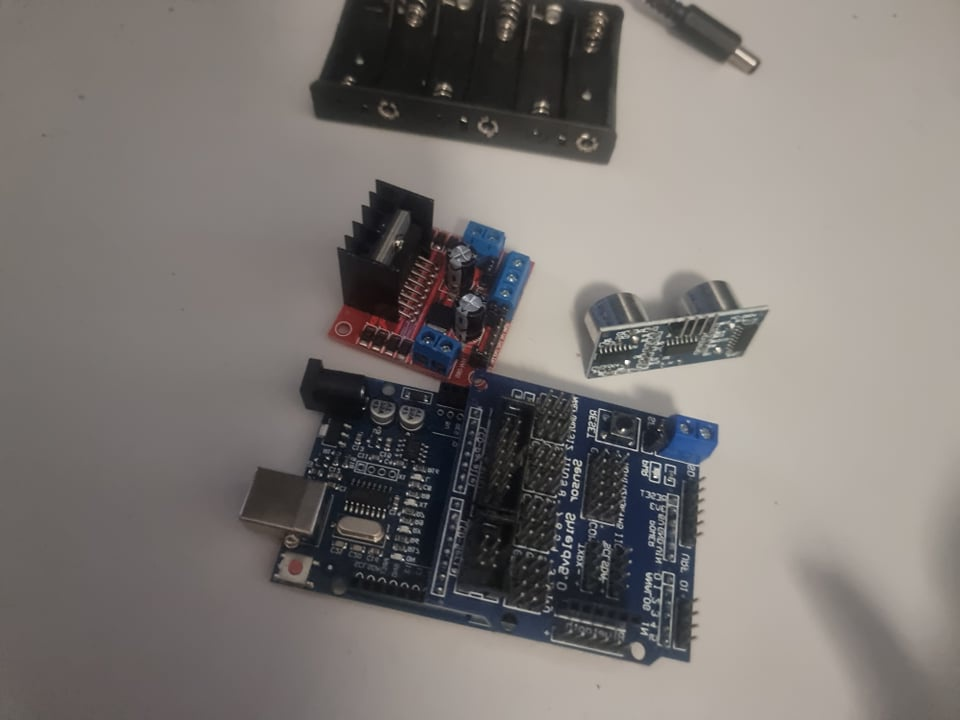5V EXPANSION: (438, 369, 732, 653)
BATTERY BOX: (309, 4, 627, 165)
MOTOR: (304, 180, 526, 387)
SENSOR: (576, 267, 774, 387)
UNO R3: (212, 359, 427, 600)
